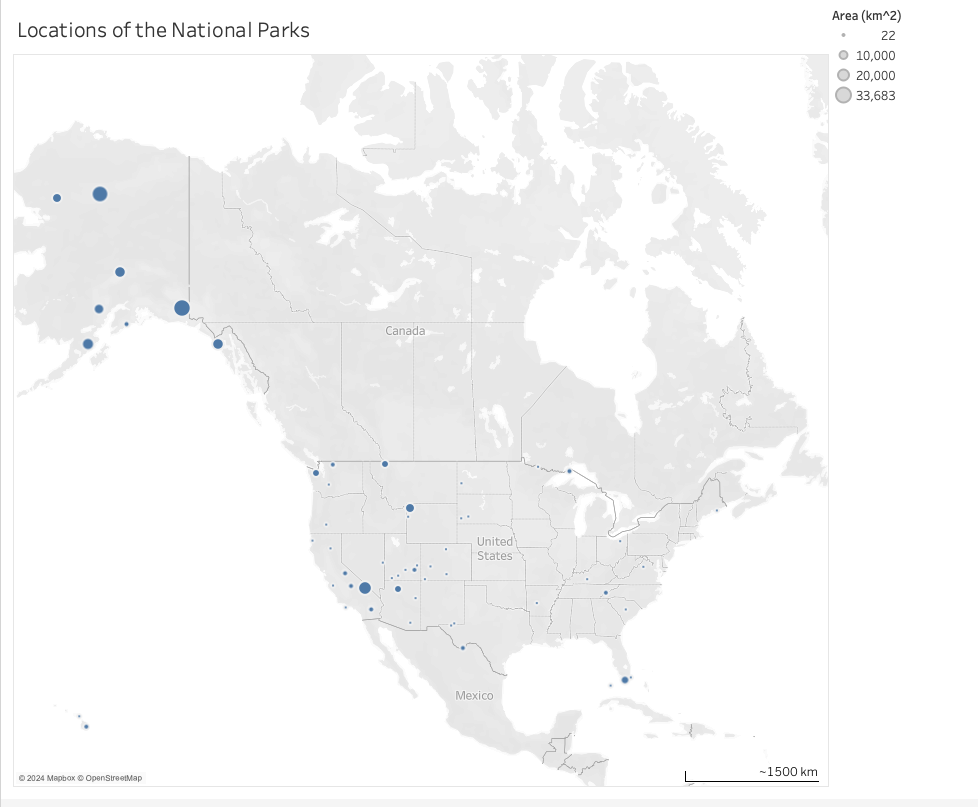

The dashboard page shown, as its layout file describes it:
{"tool":"tableau","page":{"name":"Dashboard 1","canvas":[1000,800],"ordinal":0},"visuals":[{"type":"worksheet","title":"us_parks_locations","mark":"Automatic","rows":["Latitude"],"cols":["Longitude"],"box":[8,8,824,784]},{"type":"legend","title":"us_parks_locations","param":"[federated.0cdlst71lt6bko19hse2d0mgkbwd].[sum:Calculation_2699907986871406592:qk","box":[831,8,162,237]}]}

Visuals, with their boxes in screenshot pixels (x1, y1, x2, y2):
"us_parks_locations" worksheet: 33,23,828,779
"us_parks_locations" legend: 827,23,977,252
